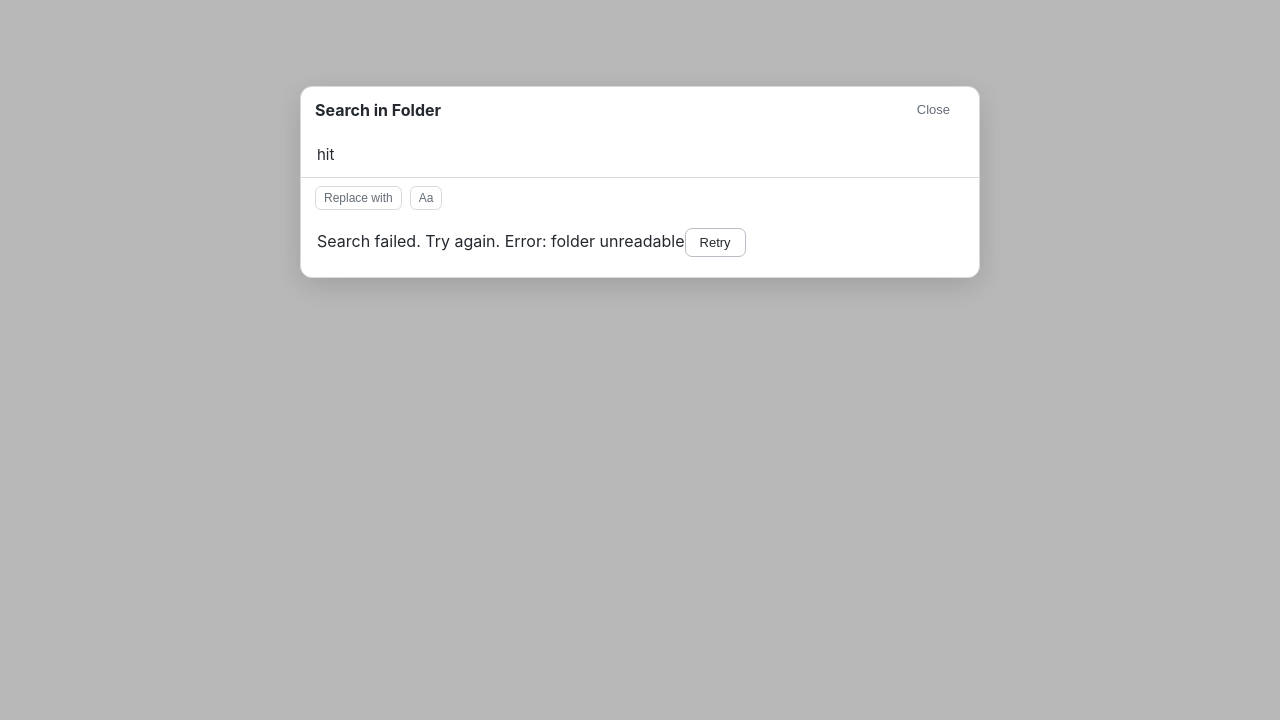
it: 검색 실패를 빈 결과와 구별하고 재시도한다
The width and height of the screenshot is (1280, 720).
Expected: the message "Search failed. Try again. Error: folder unreadable Retry" is shown, [317,228,746,257]
Click the button "Retry" at (715, 243), box [684,228,746,257]
Wait 200 ms
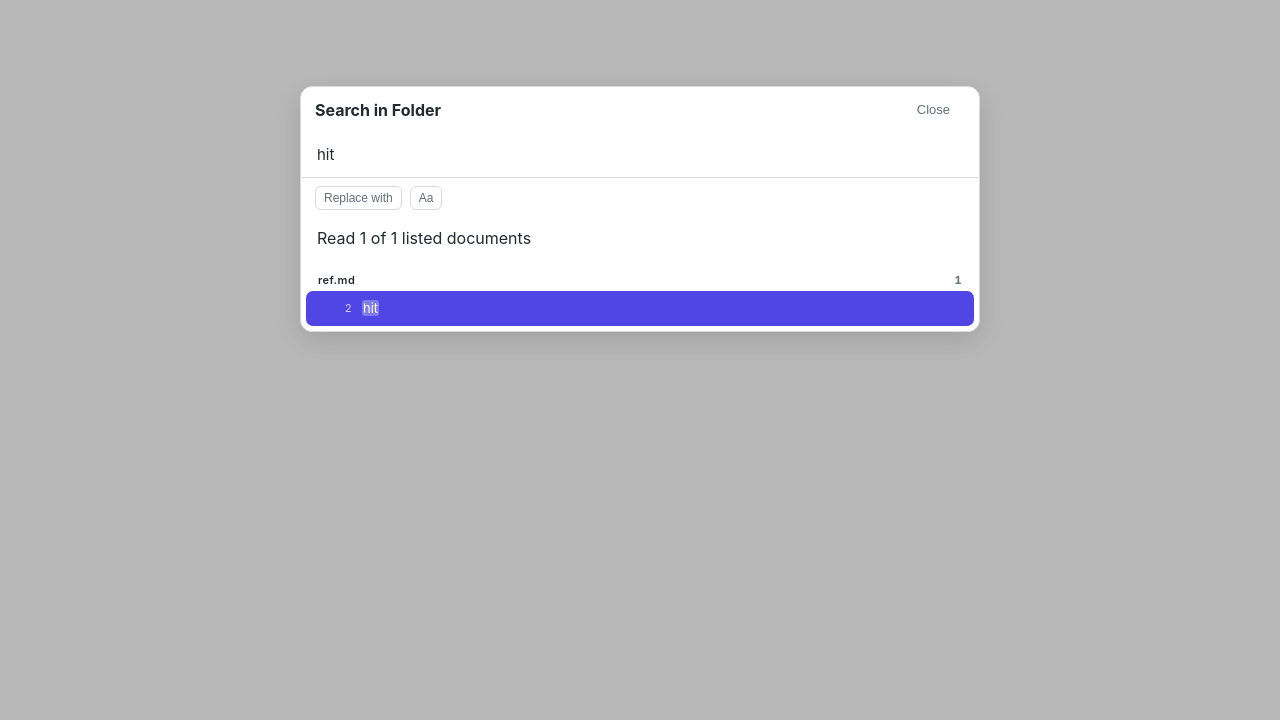
Result: the message "Search failed. Try again. Error: folder unreadable Retry" is gone
Result: the number of options with class "wssearch-hit" is 1 at [306,291,974,326]
